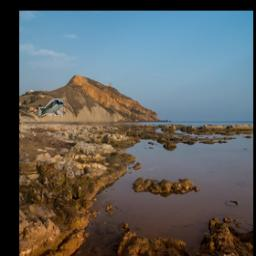Swallow: (39, 99, 64, 116)
